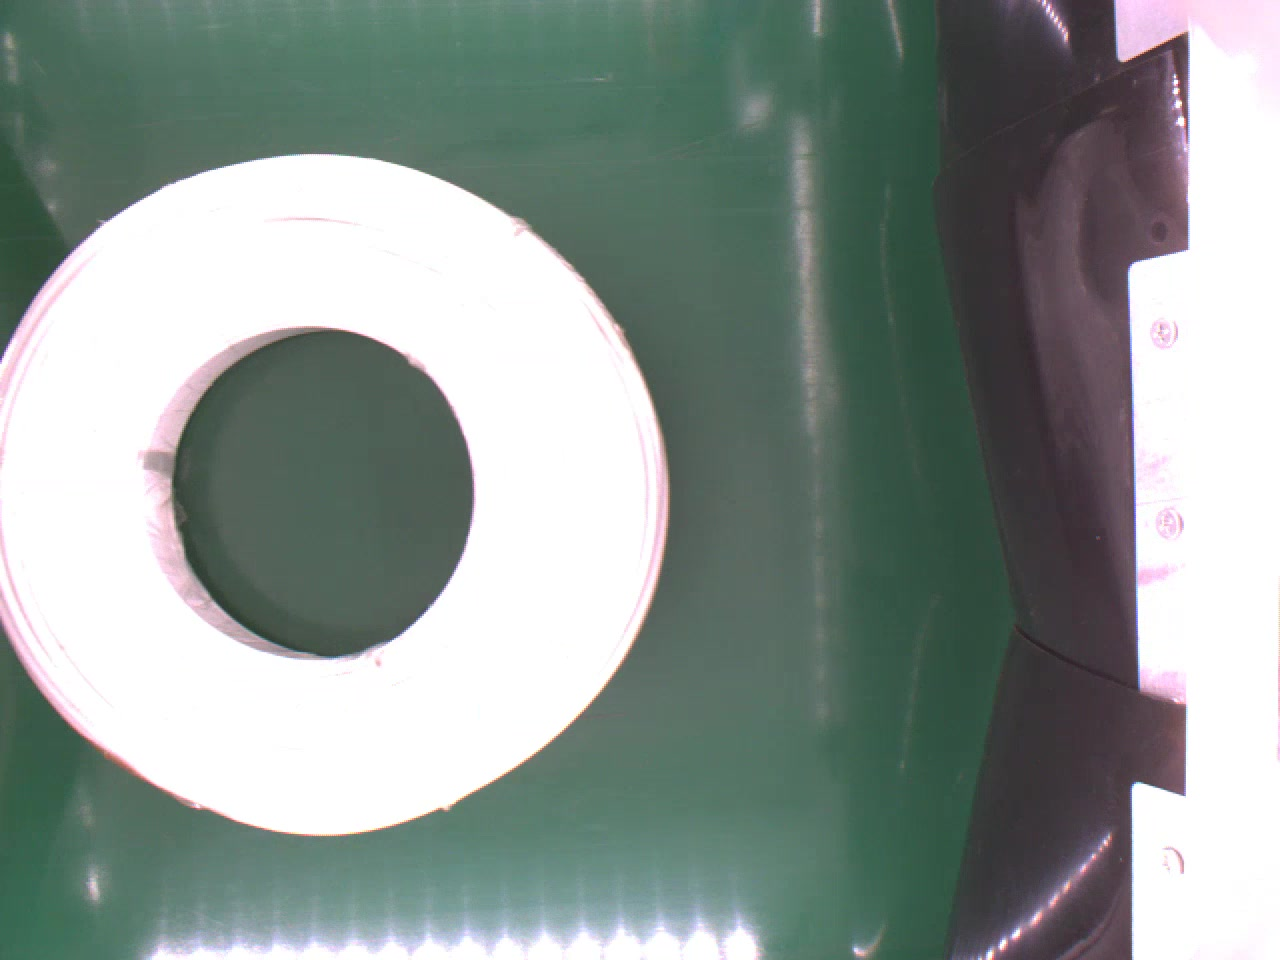white: (0, 153, 672, 841)
